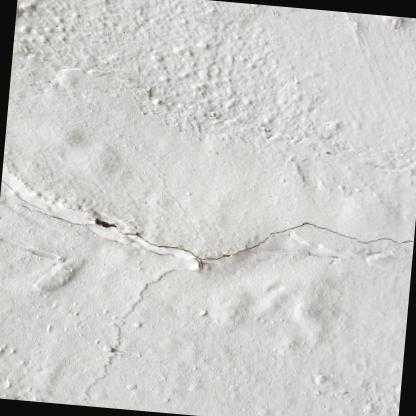crack: (18, 205, 414, 263), (1, 173, 48, 211)
